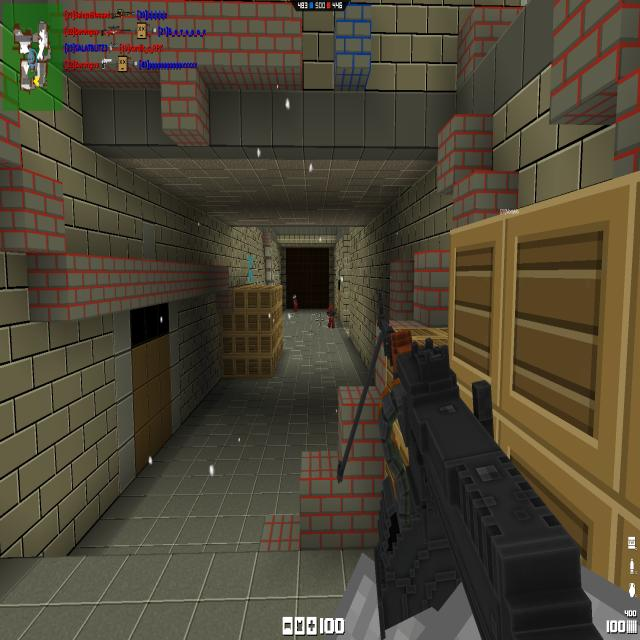player: (326, 302, 333, 328), (293, 295, 298, 312)
